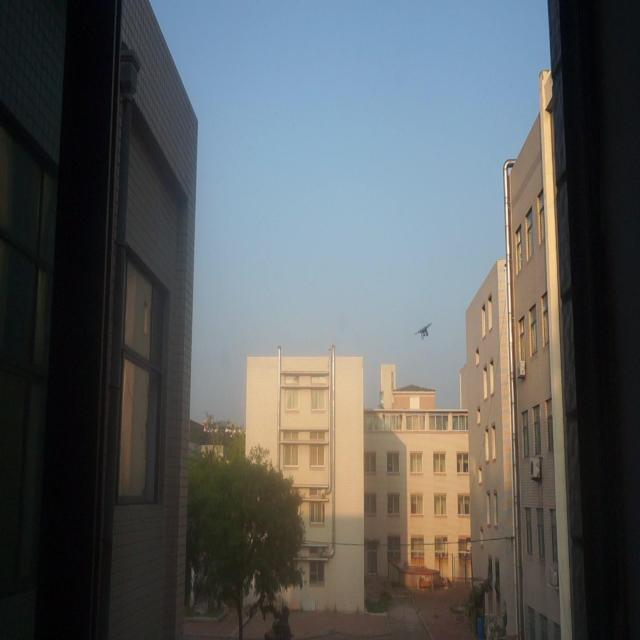drone: (412, 316, 436, 343)
